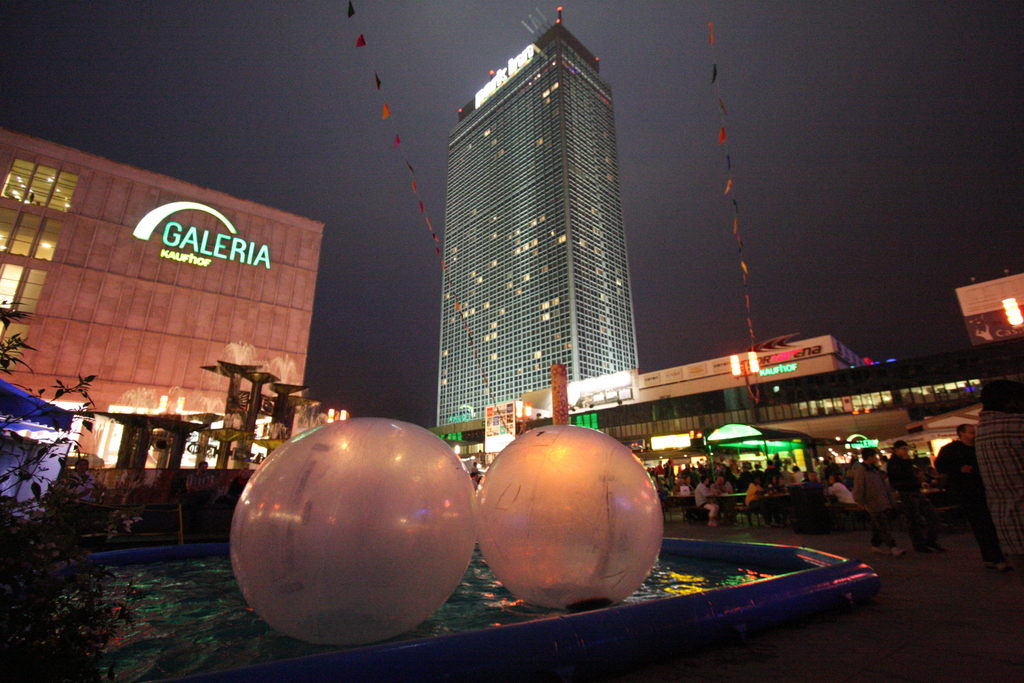Ball: (237, 417, 470, 646), (474, 425, 664, 607)
